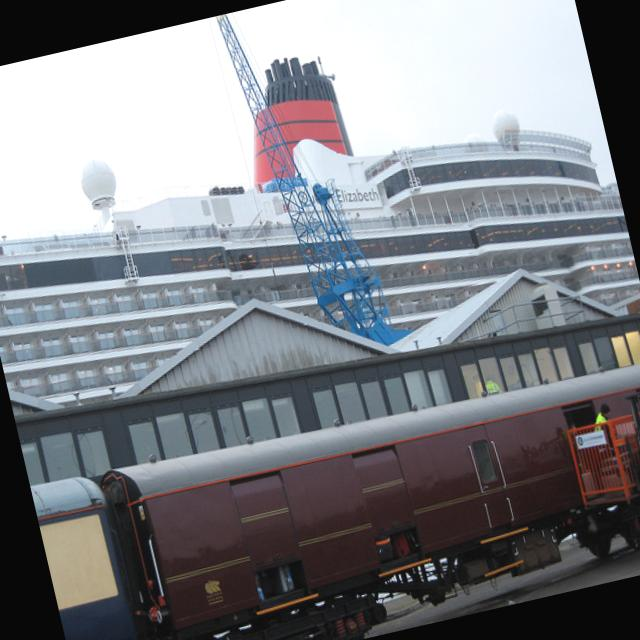Vehicle: (542, 385, 640, 573)
